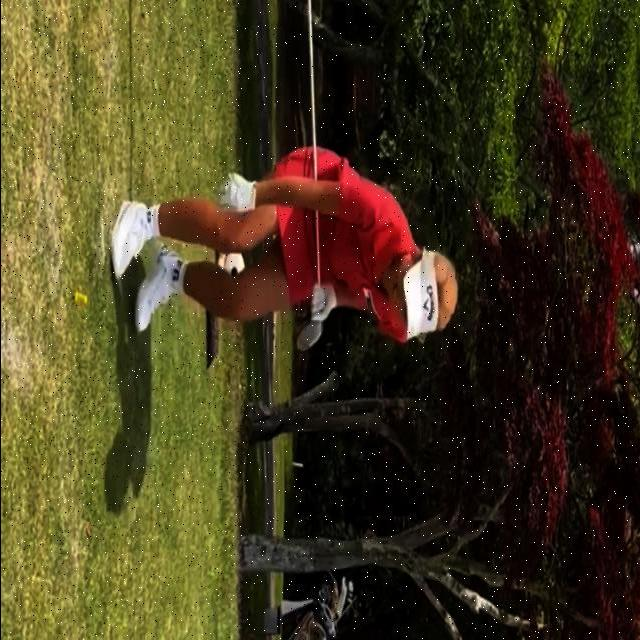golf club-handle: (295, 0, 322, 352)
golf club-head: (296, 322, 323, 352)
